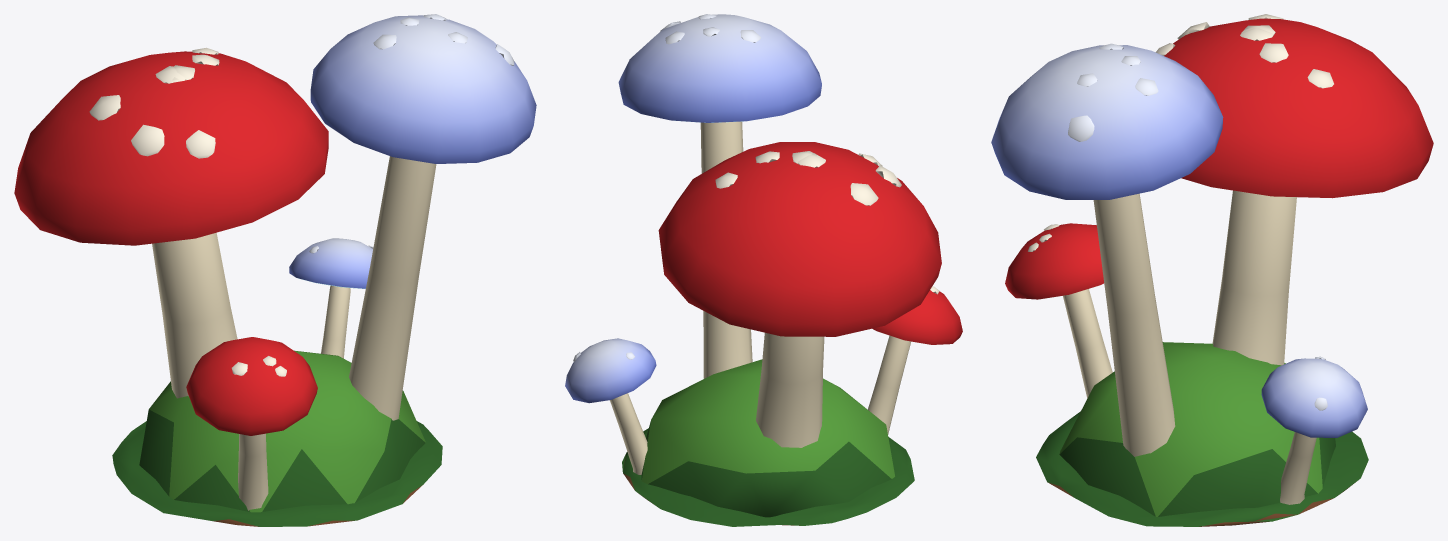
Rendered from ShroomCluster.fbx.
3 views of the same model, side by side, from view 1: azimuth 30°, elevation 25°; view 2: azimuth 150°, elevation 25°; view 3: azimuth 270°, elevation 25° (orthographic). The views are drawn at different scales.
Visible parts, largest first — view 1: ShroomCluster; view 2: ShroomCluster; view 3: ShroomCluster.
Boxes of the visible parts, x1=… form: ShroomCluster: x1=14, y1=14, x2=536, y2=526; ShroomCluster: x1=565, y1=14, x2=962, y2=526; ShroomCluster: x1=991, y1=14, x2=1433, y2=526.
Size of the model in its own units: 2.34 by 2.46 by 2.16.
Materials: 2 (2 with a texture image).
